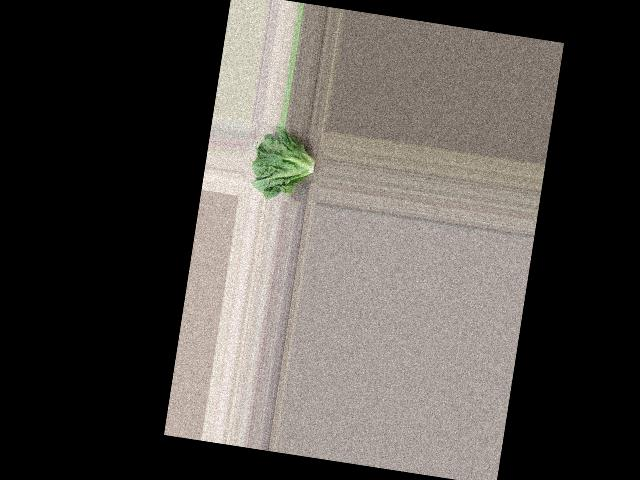lettuce: (245, 122, 324, 204)
